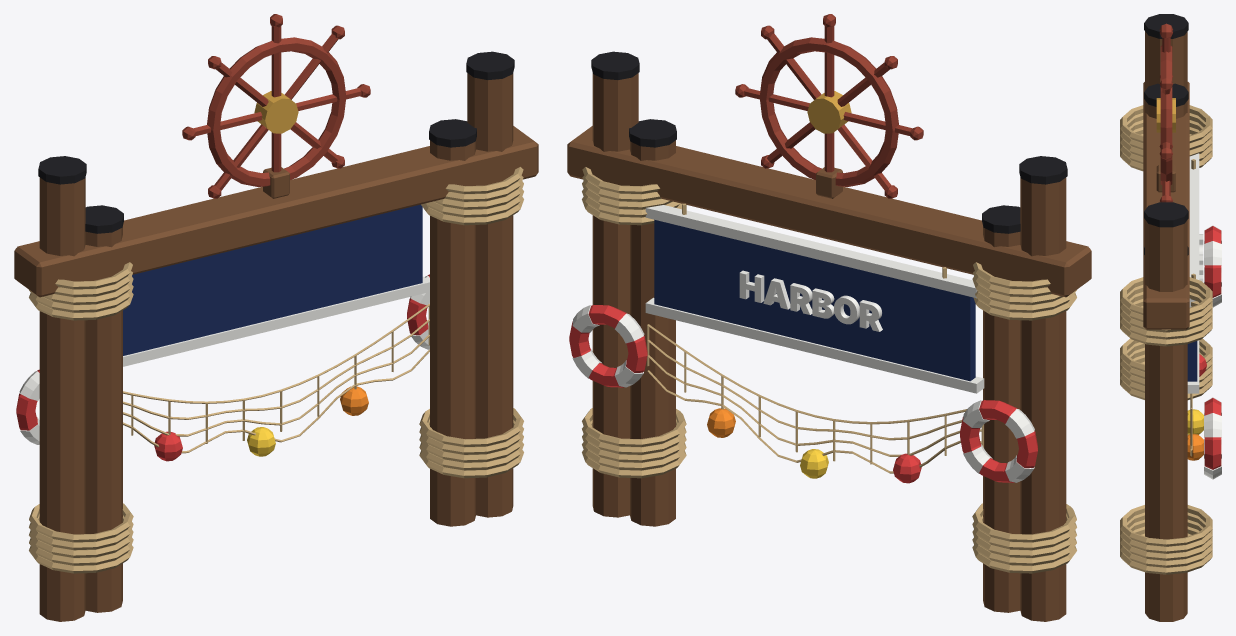
The model's file is HarborGate.fbx.
3 renders of one model, left to right at view 1: azimuth 30°, elevation 25°; view 2: azimuth 150°, elevation 25°; view 3: azimuth 270°, elevation 25°, orthographic. The views are drawn at different scales.
Visible parts, largest first — view 1: HarborGate_WoodDark, HarborGate_Navy, HarborGate_Rope, HarborGate_WoodRed, HarborGate_White, HarborGate_Black, HarborGate_Red, HarborGate_Brass; view 2: HarborGate_WoodDark, HarborGate_Navy, HarborGate_Rope, HarborGate_White, HarborGate_WoodRed, HarborGate_Red, HarborGate_Black, HarborGate_Brass; view 3: HarborGate_WoodDark, HarborGate_Rope, HarborGate_White, HarborGate_Black, HarborGate_WoodRed, HarborGate_Red, HarborGate_Navy, HarborGate_Orange, HarborGate_Yellow, HarborGate_Brass.
Part boxes in pixels (x1,y1,x2,y2): HarborGate_WoodDark: (14, 73, 538, 621); HarborGate_Navy: (123, 204, 422, 355); HarborGate_Rope: (29, 167, 523, 573); HarborGate_WoodRed: (182, 14, 370, 198); HarborGate_White: (19, 276, 429, 444); HarborGate_Black: (38, 51, 514, 233); HarborGate_Red: (16, 274, 429, 461); HarborGate_Brass: (254, 91, 298, 133); HarborGate_WoodDark: (567, 73, 1091, 621); HarborGate_Navy: (654, 219, 975, 381); HarborGate_Rope: (582, 167, 1076, 573); HarborGate_White: (572, 205, 1034, 482); HarborGate_WoodRed: (735, 14, 923, 198); HarborGate_Red: (569, 305, 1037, 483); HarborGate_Black: (591, 51, 1067, 233); HarborGate_Brass: (807, 91, 851, 133); HarborGate_WoodDark: (1143, 31, 1189, 621); HarborGate_Rope: (1120, 105, 1212, 574); HarborGate_White: (1187, 153, 1221, 479); HarborGate_Black: (1144, 14, 1188, 255); HarborGate_WoodRed: (1159, 23, 1172, 202); HarborGate_Red: (1199, 226, 1221, 469); HarborGate_Navy: (1187, 341, 1197, 381); HarborGate_Orange: (1187, 434, 1203, 460); HarborGate_Yellow: (1187, 409, 1203, 434); HarborGate_Brass: (1156, 98, 1175, 132).
Bounding box in the file's own units: 27 × 28.05 × 5.25.
